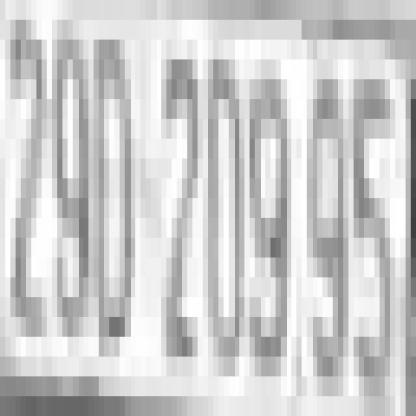0: (203, 60, 239, 356)
2: (5, 20, 47, 317), (161, 59, 203, 337)
5: (343, 80, 395, 376)
9: (239, 59, 291, 337), (47, 40, 94, 317), (302, 60, 343, 376)
D: (94, 40, 135, 317)
